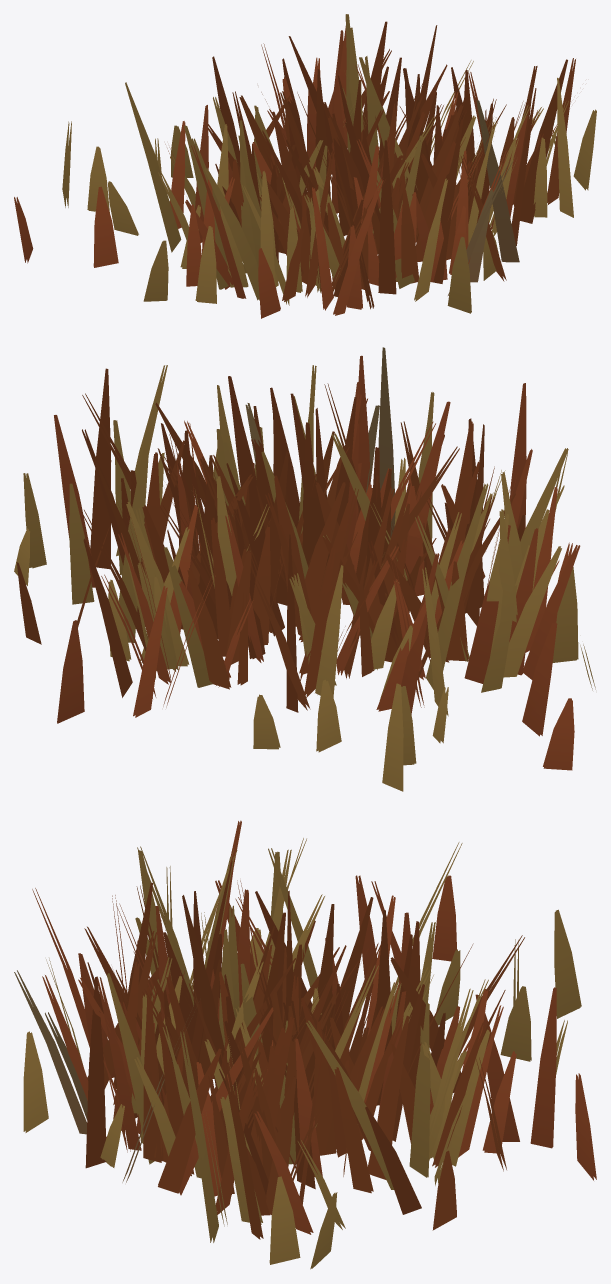
The model's file is VerGrass04.glb.
3 renders of one model, top to bottom at view 1: azimuth 30°, elevation 25°; view 2: azimuth 150°, elevation 25°; view 3: azimuth 270°, elevation 25°, orthographic. The views are drawn at different scales.
Visible parts, largest first — view 1: VerGrass04_blades; view 2: VerGrass04_blades; view 3: VerGrass04_blades.
Boxes of the visible parts, x1,y1,x2,y2 form: VerGrass04_blades: (14, 14, 596, 318); VerGrass04_blades: (14, 347, 595, 791); VerGrass04_blades: (14, 820, 596, 1269).
Bounding box in the file's own units: 2.85 × 0.8479 × 2.21.
